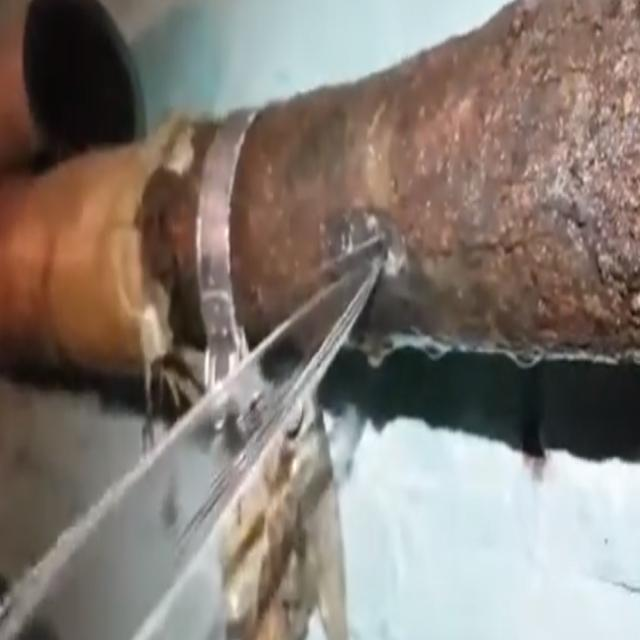leak: (0, 238, 385, 637)
